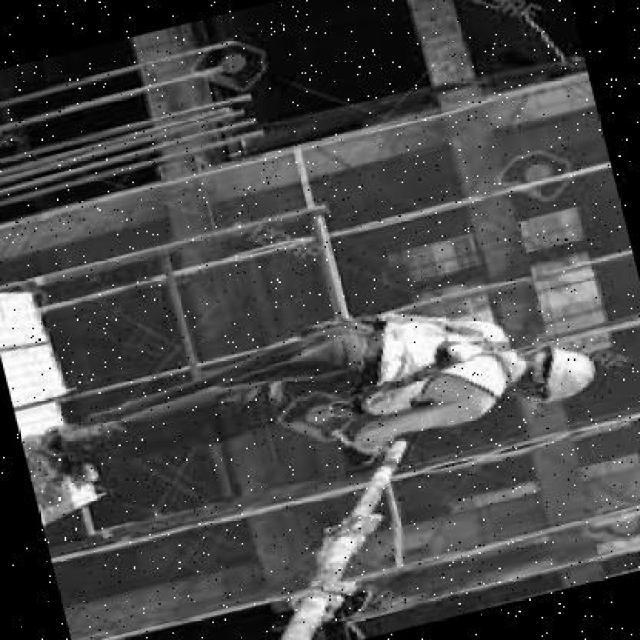Arnes_seguridad: (312, 276, 526, 442)
